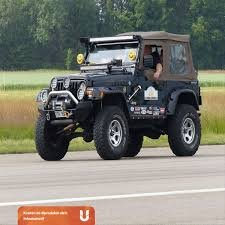mobil: (32, 27, 208, 157)
